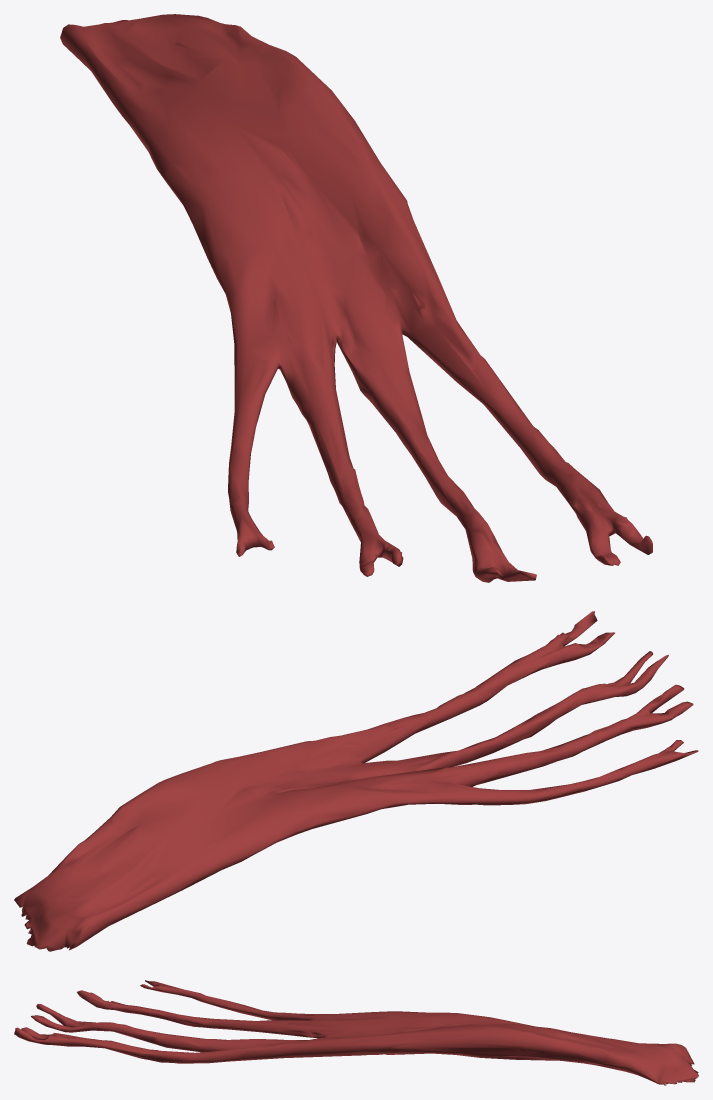
The model's file is flexor-digitorum-brevis-r.glb.
The picture shows the model from 3 angles, top to bottom: view 1: azimuth 30°, elevation 25°; view 2: azimuth 150°, elevation 25°; view 3: azimuth 270°, elevation 25°; orthographic projection. The views are drawn at different scales.
Parts seen in each view (by area): view 1: Flexor digitorum brevis.r; view 2: Flexor digitorum brevis.r; view 3: Flexor digitorum brevis.r.
Boxes of the visible parts, box(x1,y1,x2,y2) form: Flexor digitorum brevis.r: box(60, 14, 652, 582); Flexor digitorum brevis.r: box(14, 611, 698, 951); Flexor digitorum brevis.r: box(14, 980, 698, 1085).
Bounding box in the file's own units: 0.0785 × 0.02 × 0.188.
